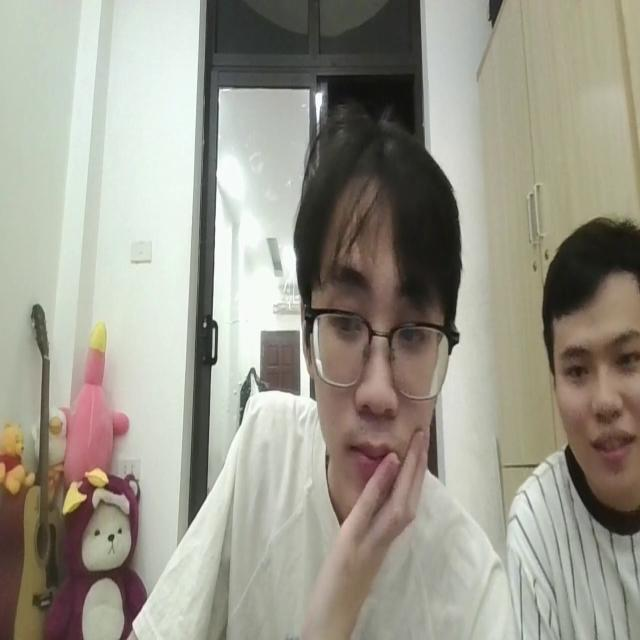extra_person: (508, 213, 640, 640)
student: (103, 101, 514, 640)
